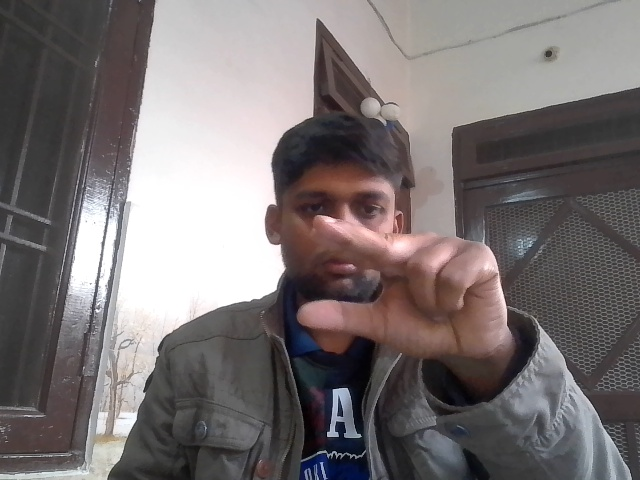No: (270, 206, 545, 364)
